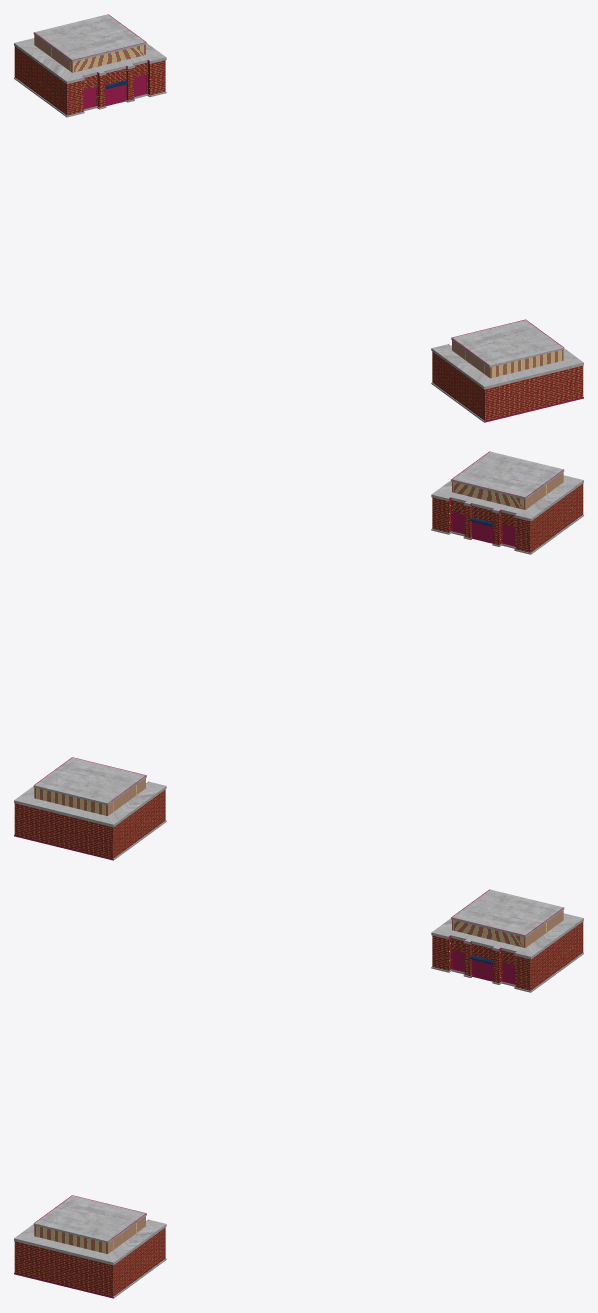
The model's file is tiendas_zoovenirs.obj.
3 renders of one model, top to bottom at view 1: azimuth 30°, elevation 25°; view 2: azimuth 150°, elevation 25°; view 3: azimuth 330°, elevation 25°, orthographic.
Parts seen in each view (by area): view 1: zoo_venirs001, zoo_venirs; view 2: zoo_venirs, zoo_venirs001; view 3: zoo_venirs001, zoo_venirs.
Boxes of the visible parts, bbox=[...] form: zoo_venirs001: bbox=[431, 319, 583, 422]; zoo_venirs: bbox=[14, 14, 166, 117]; zoo_venirs: bbox=[14, 757, 166, 860]; zoo_venirs001: bbox=[431, 451, 583, 554]; zoo_venirs001: bbox=[14, 1195, 166, 1298]; zoo_venirs: bbox=[431, 889, 583, 992].
Bounding box in the file's own units: 81.63 × 38 × 665.
